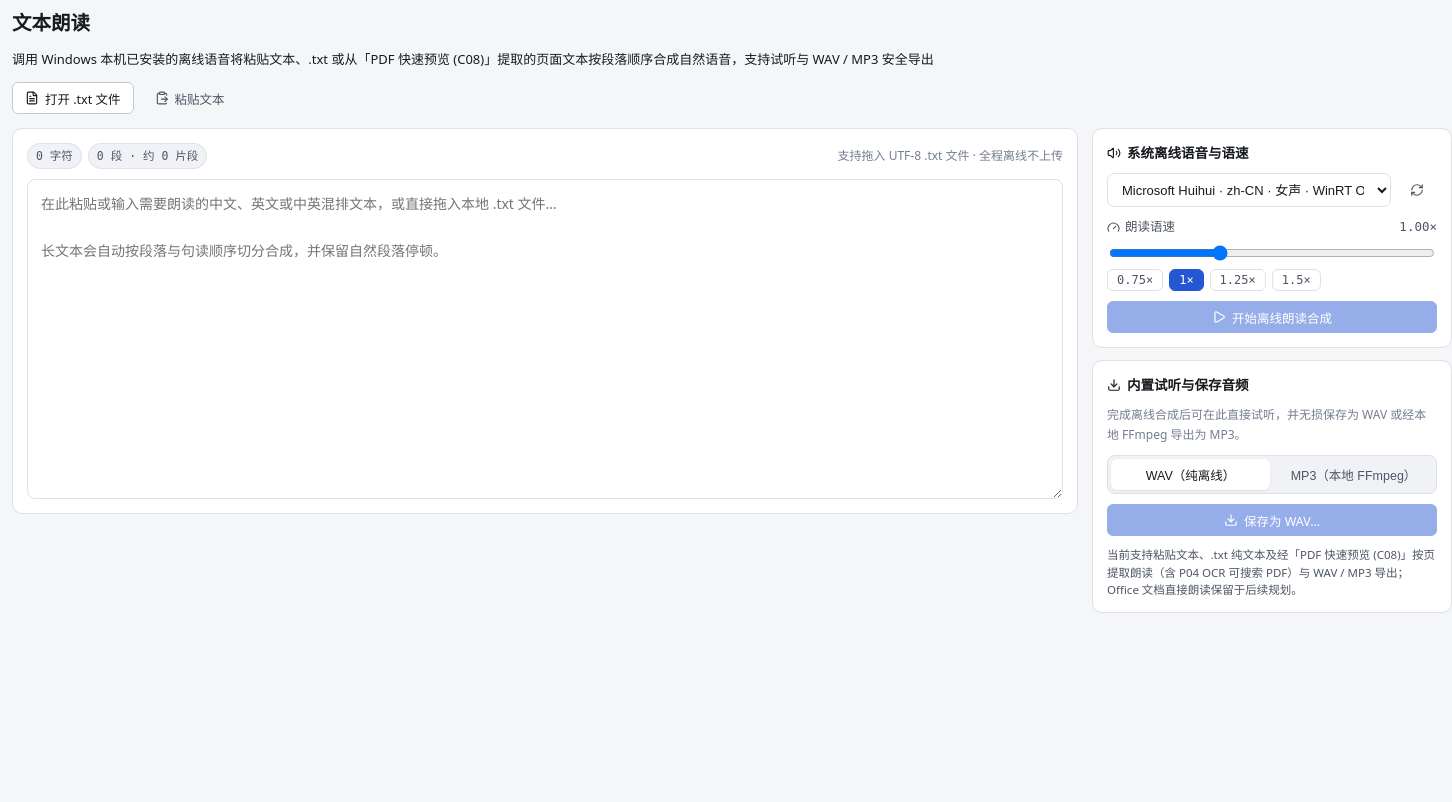
Test: TextToSpeechWorkspace (T06) › shows only supported MP3 bitrate tiers for the audio sample rate and reports real probed parameters
Expected: the dropdown with test id "t06-voice-select" shows "Microsoft Huihui · zh-CN · 女声 · WinRT OneCore", [1107, 173, 1391, 207]
Type "MP3 档位与回读参数验证。" into the text box with test id "t06-text-input" at (545, 339), box [27, 179, 1063, 499]
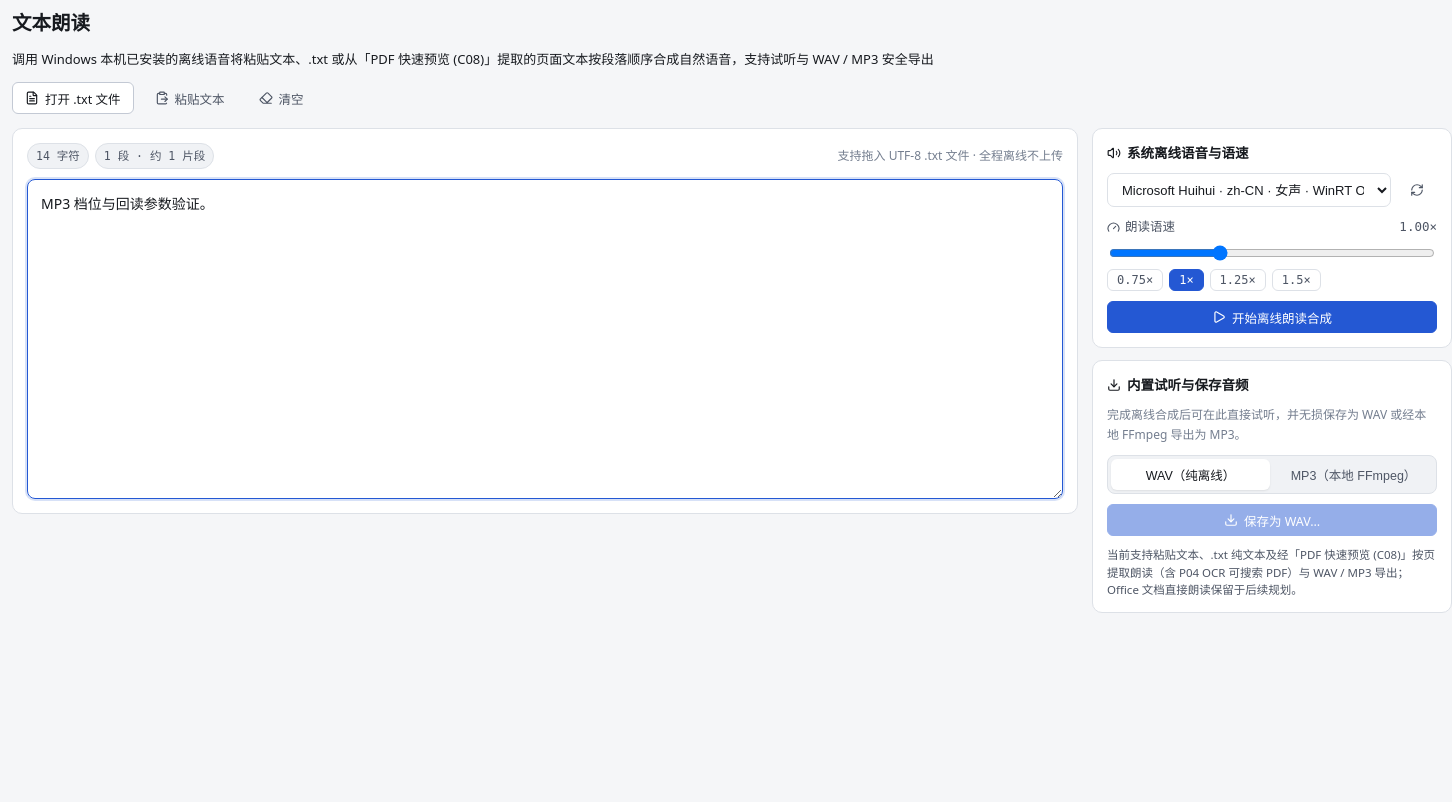
Click the button with test id "t06-start-btn" at (1272, 317), box [1107, 301, 1437, 333]
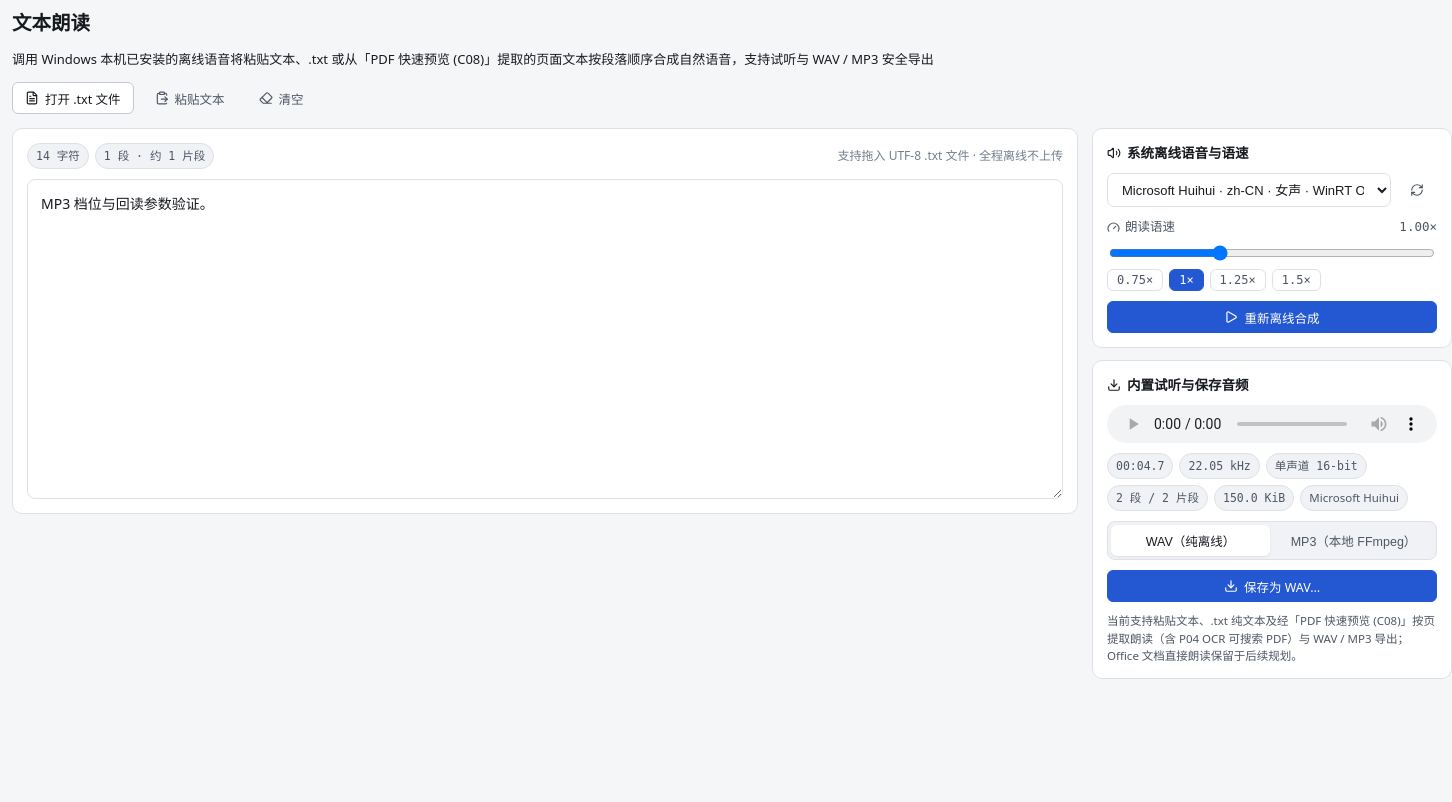
Expected: the element with test id "t06-audio-player" is shown, [1107, 405, 1437, 443]
Click the radio button with test id "t06-fmt-mp3" at (1354, 541), box [1274, 525, 1433, 556]
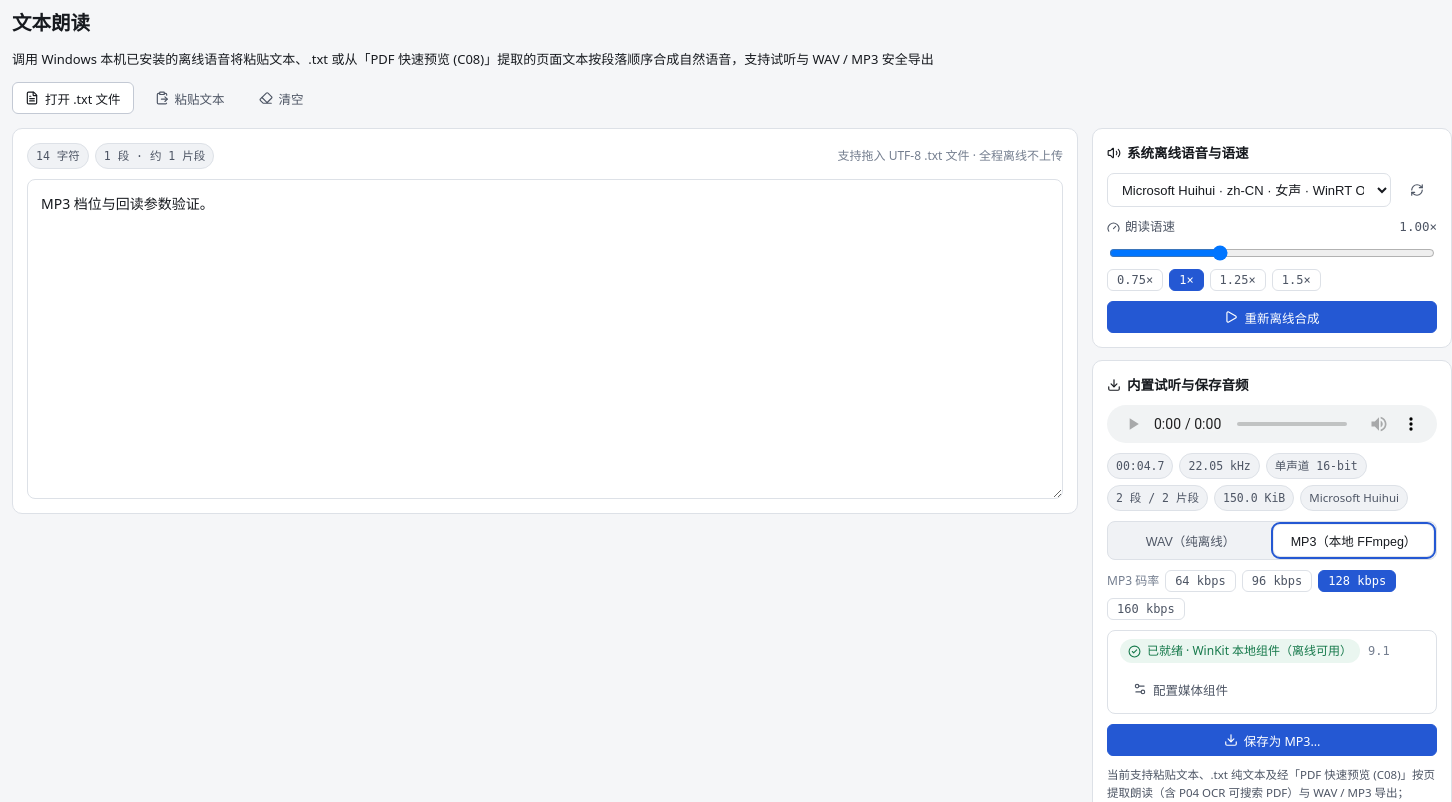
Expected: the button with test id "t06-bitrate-64" is shown, [1165, 570, 1236, 592]
Expected: the button with test id "t06-bitrate-96" is shown, [1242, 570, 1312, 592]
Expected: the button with test id "t06-bitrate-128" is shown, [1318, 570, 1396, 592]
Click the button with test id "t06-bitrate-160" at (1146, 609), box [1107, 598, 1185, 620]
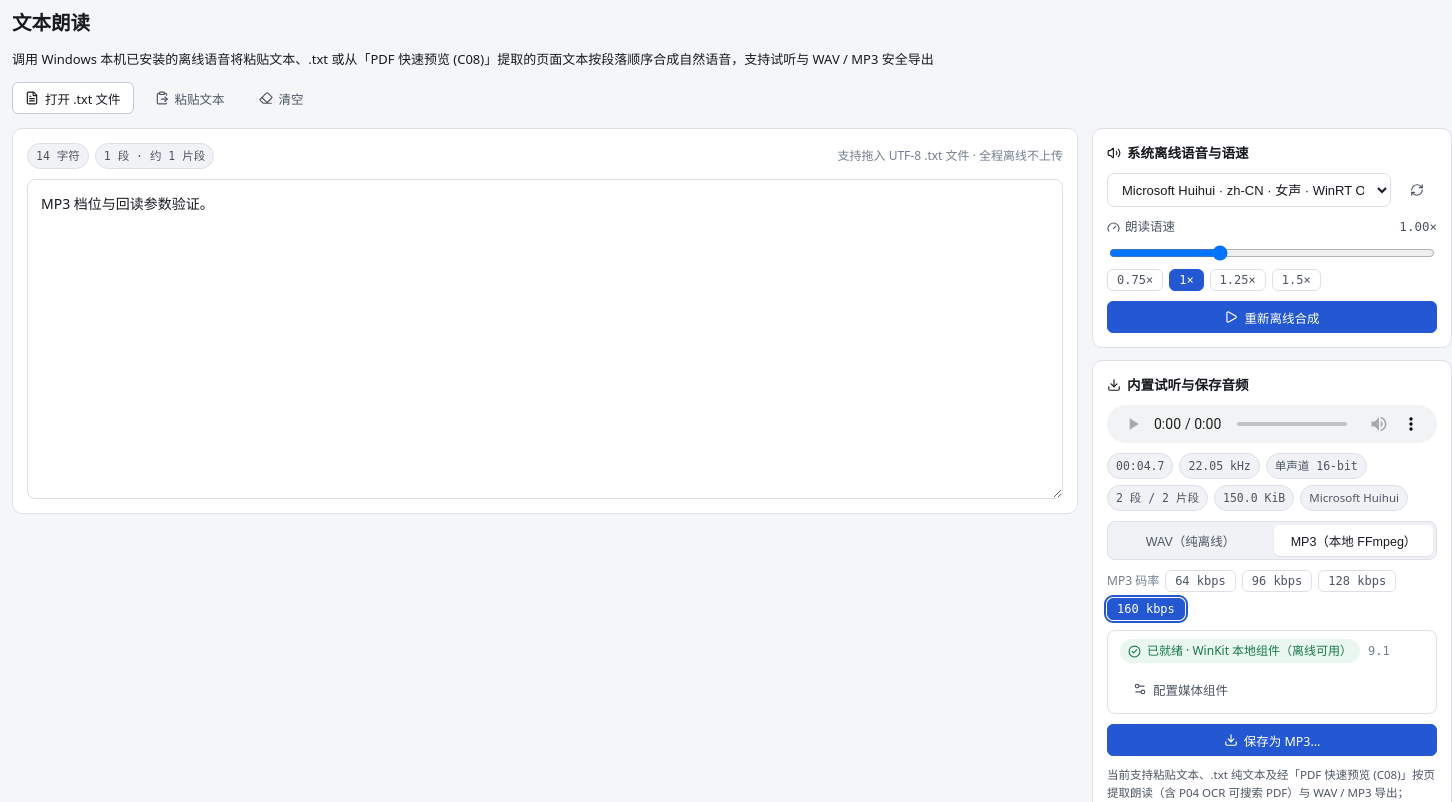
Click the button with test id "t06-export-btn" at (1272, 740), box [1107, 724, 1437, 756]
(page scrolled)
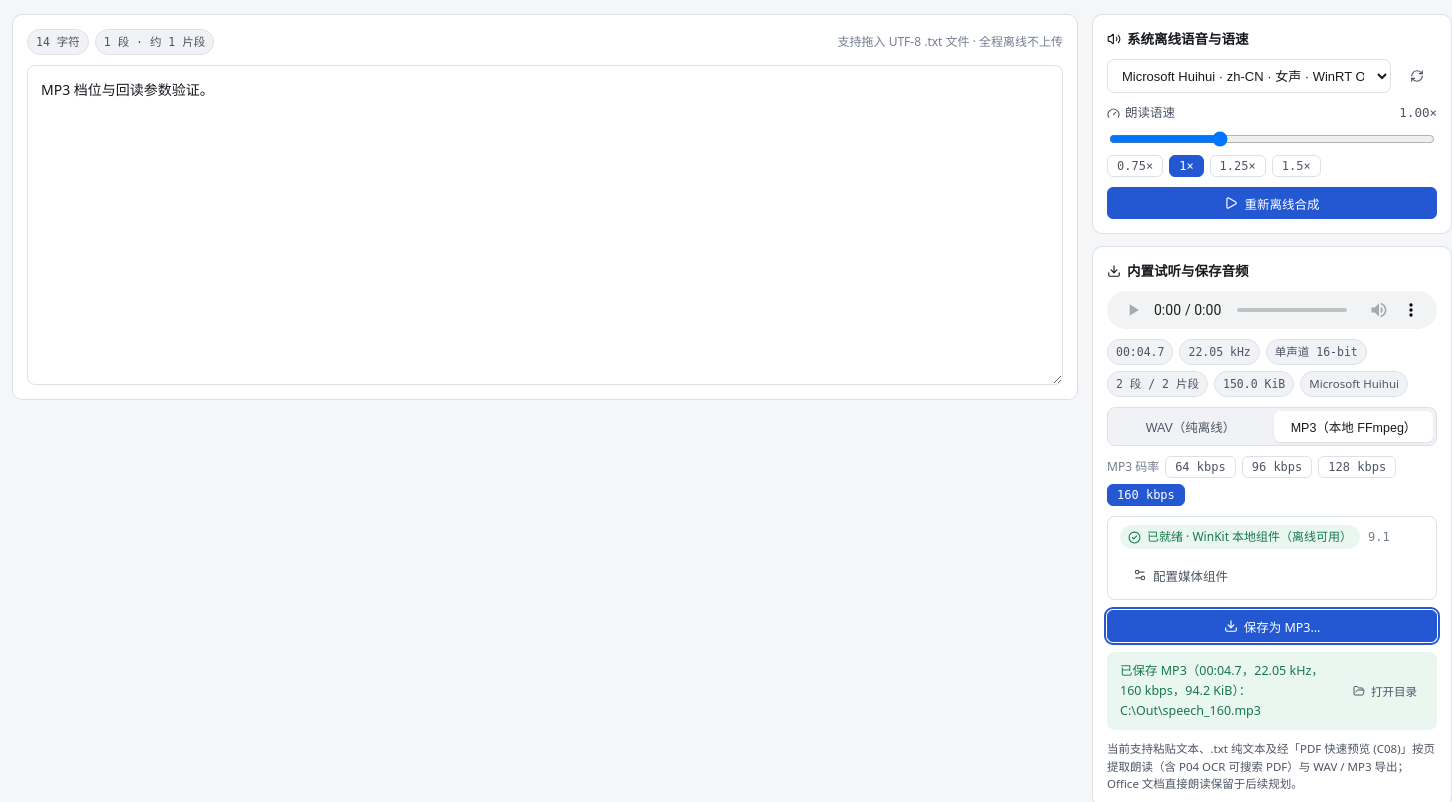
Expected: the message with test id "t06-saved-banner" shows "22.05 kHz", [1120, 662, 1324, 719]
Expected: the message with test id "t06-saved-banner" shows "160 kbps", [1120, 662, 1324, 719]
